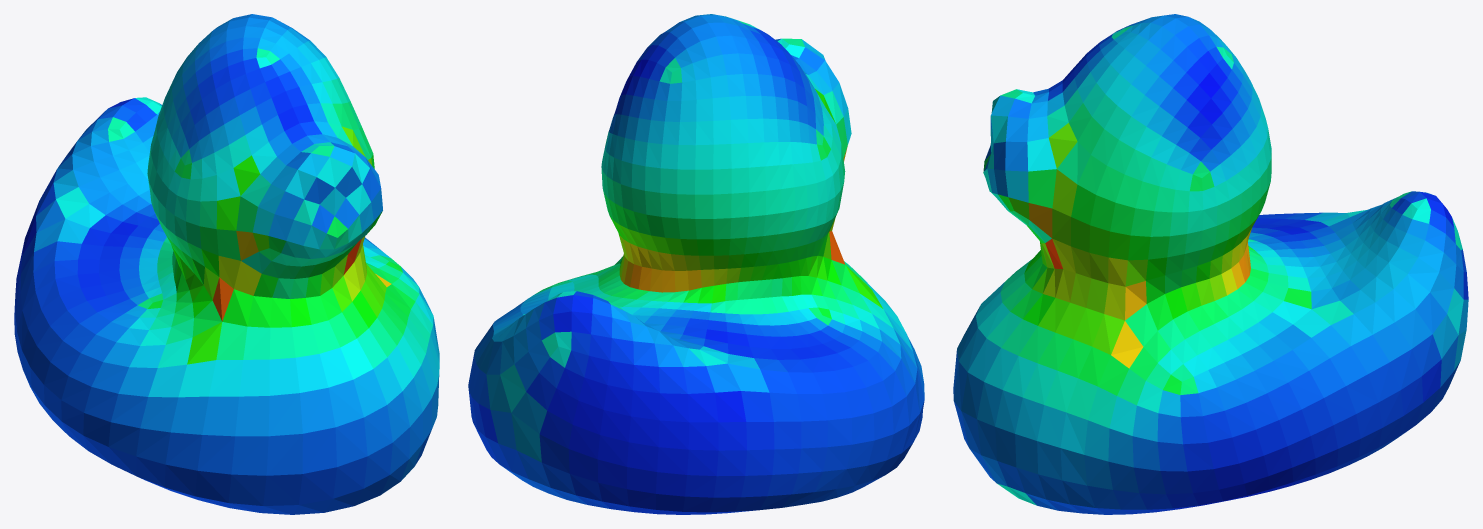
File: duck_quad4_opt_quality.obj
The picture shows the model from 3 angles, left to right: view 1: azimuth 30°, elevation 25°; view 2: azimuth 150°, elevation 25°; view 3: azimuth 270°, elevation 25°; orthographic projection. The views are drawn at different scales.
Bounding box in the file's own units: 69.86 × 78.98 × 81.71.
